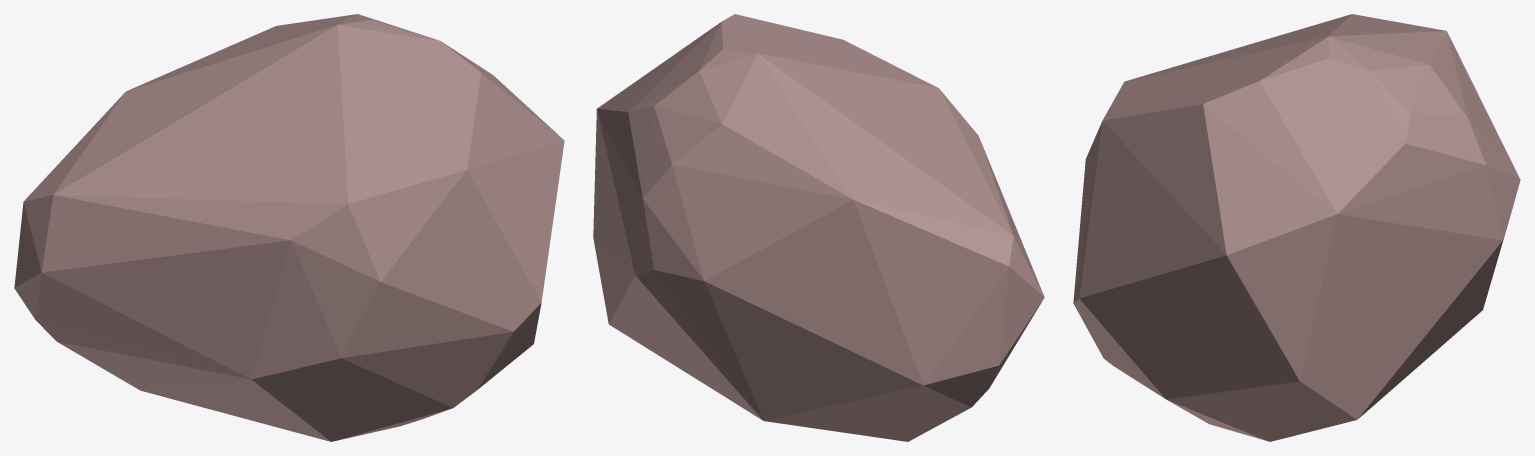
Rendered from food_produce_avocado_d01.glb.
3 views of the same model, side by side, from view 1: azimuth 30°, elevation 25°; view 2: azimuth 150°, elevation 25°; view 3: azimuth 270°, elevation 25° (orthographic). The views are drawn at different scales.
Parts seen in each view (by area): view 1: geometry_0; view 2: geometry_0; view 3: geometry_0.
Part boxes in pixels (box(x1,y1,x2,y2)): geometry_0: box(14, 14, 564, 441); geometry_0: box(593, 14, 1044, 441); geometry_0: box(1073, 14, 1520, 441).
Size of the model in its own units: 0.4576 by 0.3352 by 0.3572.
